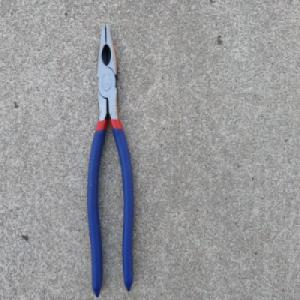Pliers: (84, 22, 135, 300)
